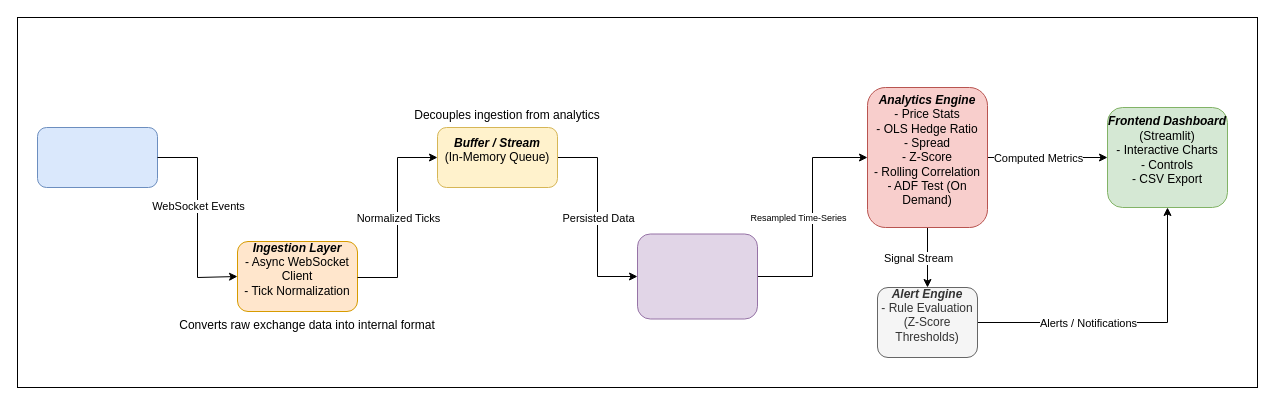
Some shapes in this 1275 by 405 pixel diagram are drawn without their labels. The shapes that lost their labels are listed below. From the top down, each one's centre as x and y in pixels, then its label:
(x=97, y=157): Binance WebSocket (Trade Stream)
(x=697, y=276): Storage & Resampling - SQLite (Ticks) - Pandas Resample (1s / 1m)
